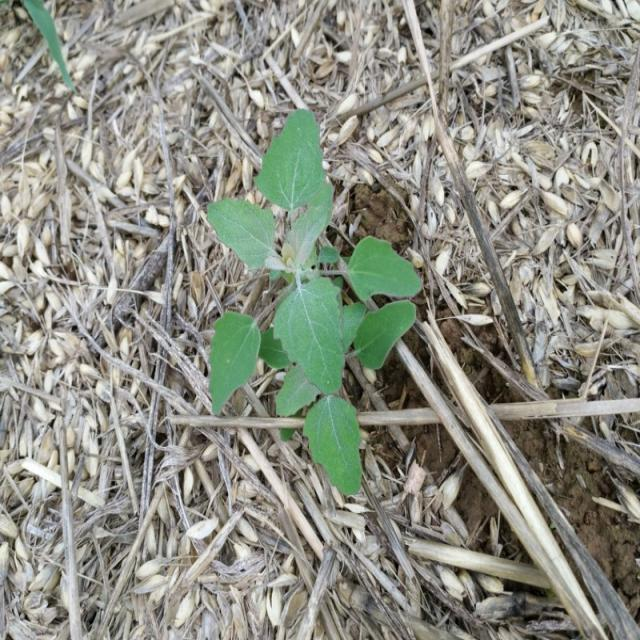goosefoots: (185, 114, 422, 450)
